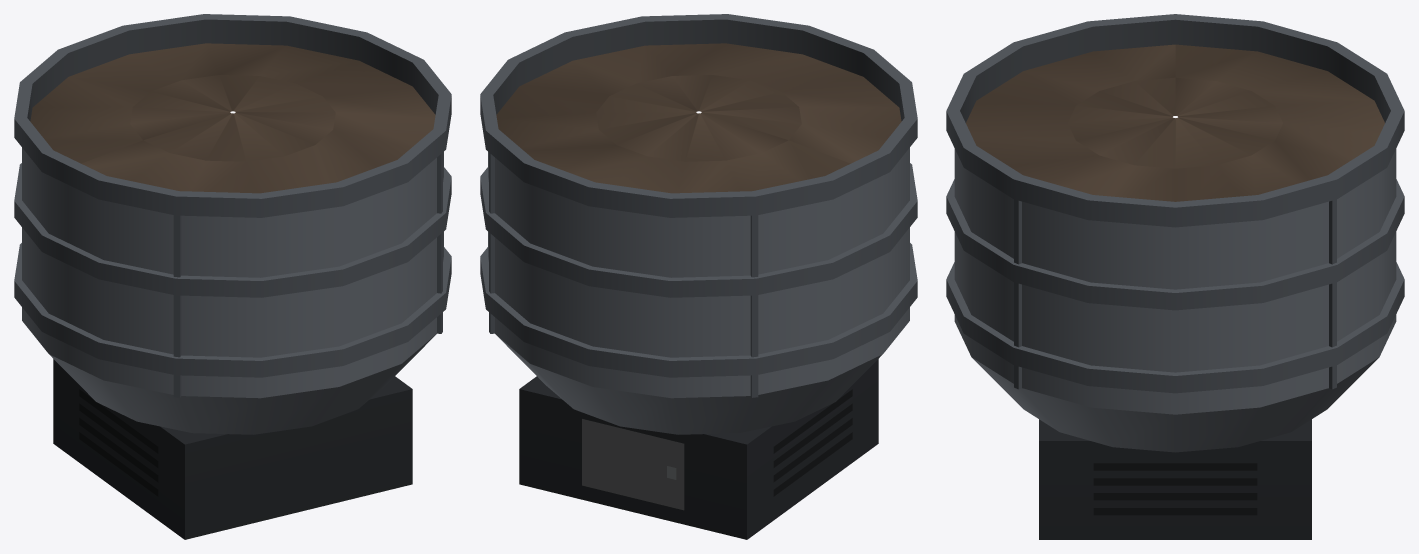
File: hopper.round.grey.glb
3 renders of one model, left to right at view 1: azimuth 30°, elevation 25°; view 2: azimuth 150°, elevation 25°; view 3: azimuth 270°, elevation 25°, orthographic. The views are drawn at different scales.
Visible parts, largest first — view 1: hopper_round_grey; view 2: hopper_round_grey; view 3: hopper_round_grey.
Boxes of the visible parts, box(x1,y1,x2,y2) form: hopper_round_grey: box(14, 14, 451, 539); hopper_round_grey: box(480, 14, 917, 539); hopper_round_grey: box(946, 14, 1404, 539).
Size of what is drawn, in the model's own units: 3.36 by 3 by 3.36.
